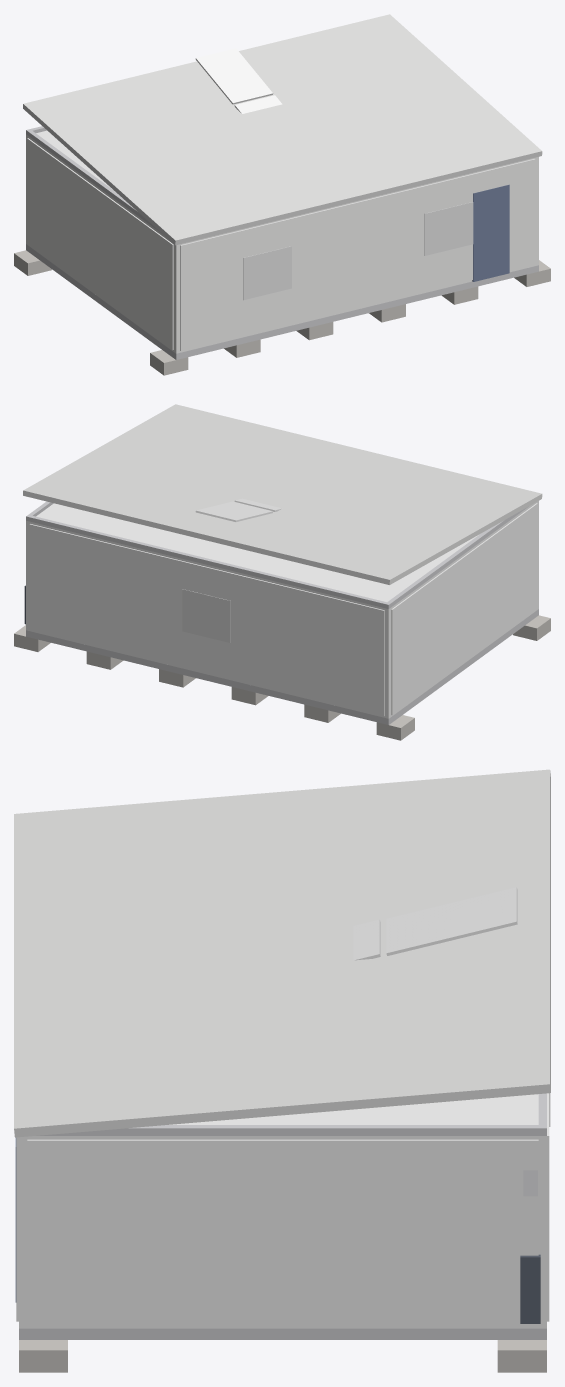
File: Studio-30-SlopingRoof+FullSolar-LOD0.glb
3 renders of one model, top to bottom at view 1: azimuth 30°, elevation 25°; view 2: azimuth 150°, elevation 25°; view 3: azimuth 270°, elevation 25°, orthographic. The views are drawn at different scales.
Parts seen in each view (by area): view 1: RoofSlopingUpgrade, ExteriorPanelsStandard, WindowsStandard, BaseFrame, FoundationBlocks, ExteriorShell, EntryDoor, SolarPanelArray, TopFrame, InteriorCeiling; view 2: ExteriorPanelsStandard, RoofSlopingUpgrade, InteriorCeiling, ExteriorShell, TopFrame, BaseFrame, FoundationBlocks, WindowsStandard, SolarPanelArray; view 3: RoofSlopingUpgrade, ExteriorPanelsStandard, ExteriorShell, BaseFrame, SolarPanelArray, InteriorCeiling, TopFrame, FoundationBlocks, SolarBattery.
Part boxes in pixels (x1,y1,x2,y2): RoofSlopingUpgrade: (23,14,542,245); ExteriorPanelsStandard: (27,138,535,350); WindowsStandard: (243,202,473,300); BaseFrame: (26,244,538,359); FoundationBlocks: (14,250,550,375); ExteriorShell: (26,134,538,353); EntryDoor: (472,184,509,281); SolarPanelArray: (195,48,282,113); TopFrame: (26,126,161,233); InteriorCeiling: (36,130,112,189); ExteriorPanelsStandard: (29,503,537,715); RoofSlopingUpgrade: (23,404,542,584); InteriorCeiling: (36,503,479,601); ExteriorShell: (26,501,538,718); TopFrame: (26,501,528,608); BaseFrame: (26,609,538,724); FoundationBlocks: (14,615,550,740); WindowsStandard: (182,589,230,642); SolarPanelArray: (195,498,282,521); RoofSlopingUpgrade: (14,769,550,1137); ExteriorPanelsStandard: (16,1093,549,1325); ExteriorShell: (19,1136,546,1328); BaseFrame: (19,1328,546,1339); SolarPanelArray: (353,887,517,960); InteriorCeiling: (169,1094,538,1124); TopFrame: (36,1093,546,1135); FoundationBlocks: (19,1340,546,1372); SolarBattery: (520,1254,540,1323).
Bounding box in the file's own units: 9.6 × 4.07 × 6.56.
